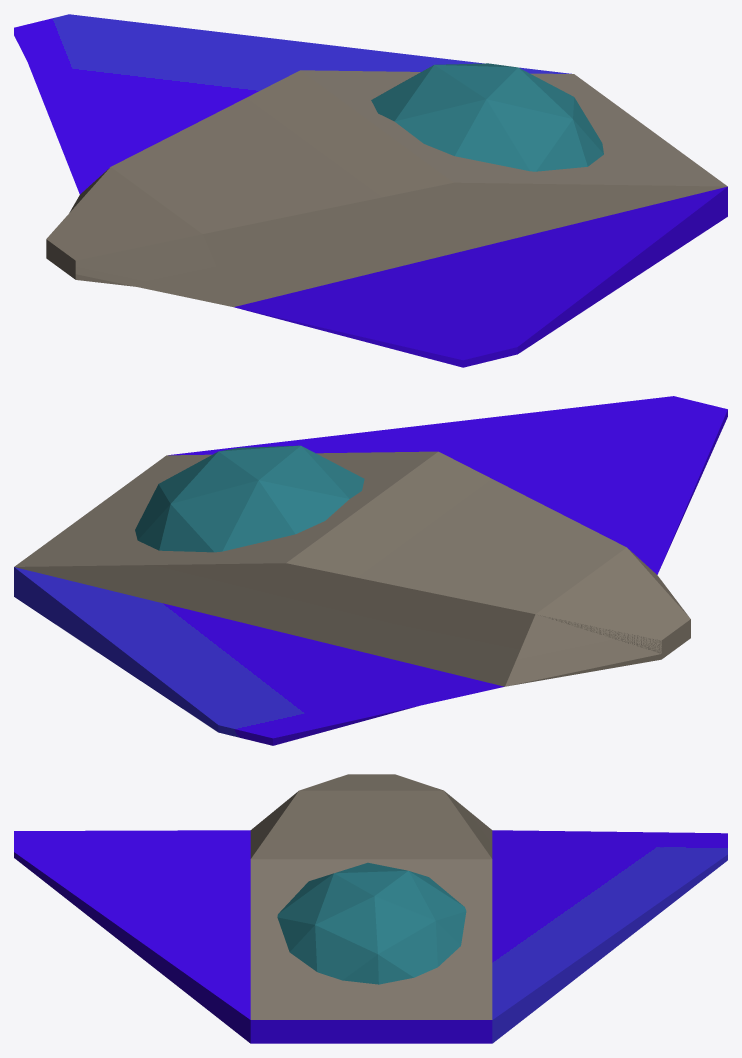
File: ship.obj
3 views of the same model, one above another, from view 1: azimuth 30°, elevation 25°; view 2: azimuth 150°, elevation 25°; view 3: azimuth 270°, elevation 25° (orthographic). The views are drawn at different scales.
Parts seen in each view (by area): view 1: Cube; view 2: Cube; view 3: Cube.
Part boxes in pixels (box(x1,y1,x2,y2)): Cube: box(14, 14, 727, 367); Cube: box(14, 396, 727, 745); Cube: box(14, 774, 727, 1043).
Size of the model in its own units: 4.44 by 0.9017 by 5.91.
1 material, 1 textured.
